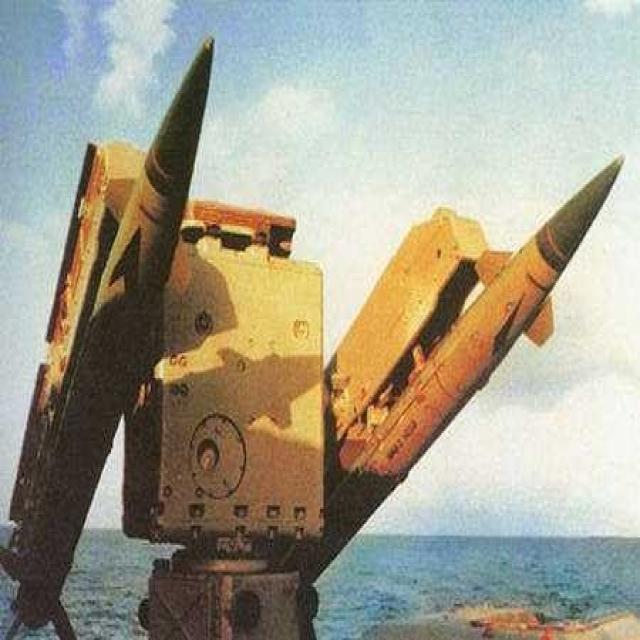missile: (294, 147, 631, 581), (13, 39, 217, 640)
